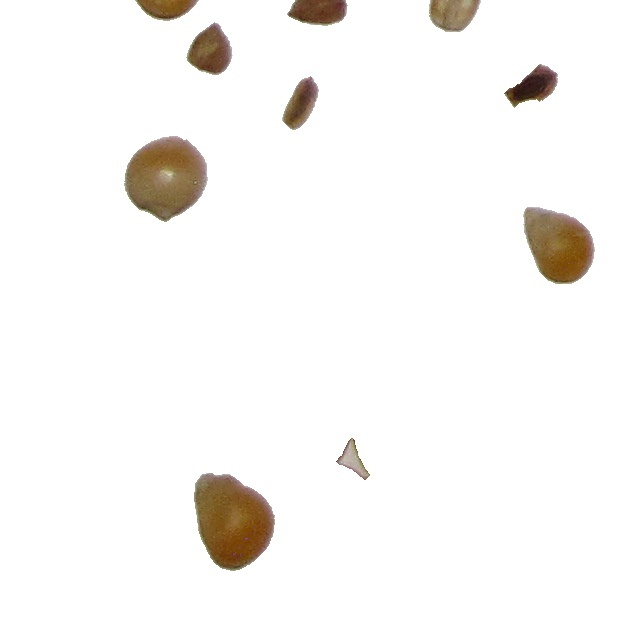buckwheat: (185, 21, 234, 76), (503, 63, 559, 109)
mais: (193, 472, 276, 572), (123, 135, 209, 223), (522, 206, 596, 285)
other: (281, 75, 320, 131), (335, 437, 371, 481)
